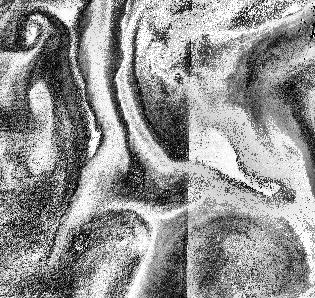CE: (12, 2, 67, 54)
